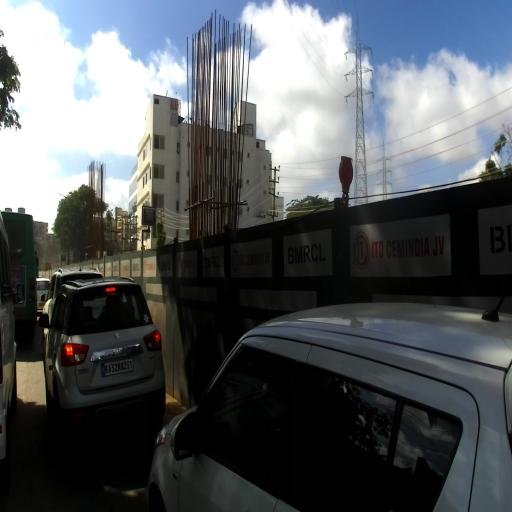street_light_0: (58, 192, 71, 201), (70, 195, 84, 201)
